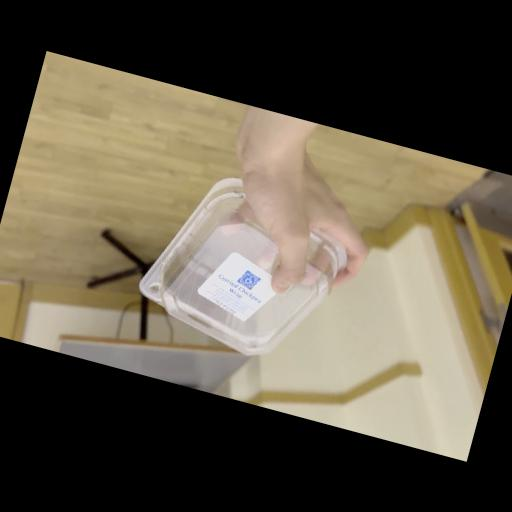small_plastic_container: (134, 165, 356, 372)
